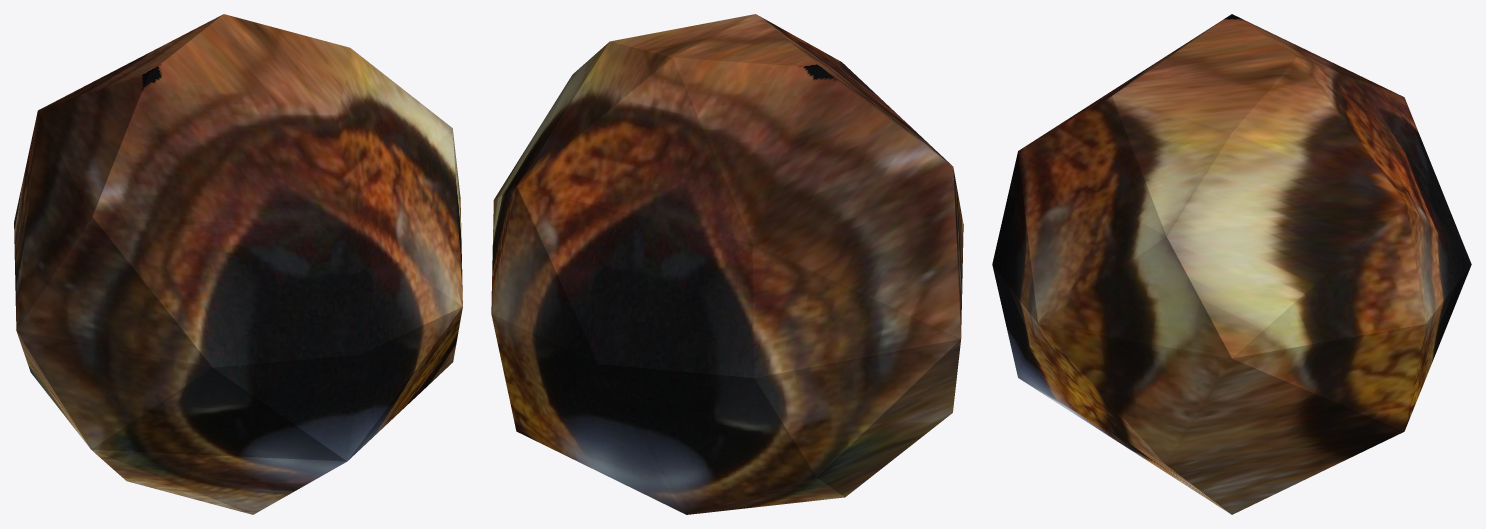
Rendered from eye.glb.
3 views of the same model, side by side, from view 1: azimuth 30°, elevation 25°; view 2: azimuth 150°, elevation 25°; view 3: azimuth 270°, elevation 25° (orthographic). The views are drawn at different scales.
Parts seen in each view (by area): view 1: Icosphere; view 2: Icosphere; view 3: Icosphere.
Boxes of the visible parts, bbox=[...] form: Icosphere: bbox=[14, 14, 462, 514]; Icosphere: bbox=[491, 14, 963, 514]; Icosphere: bbox=[992, 14, 1471, 514].
Size of the model in its own units: 2.09 by 1.99 by 2.
1 material, 1 textured.
